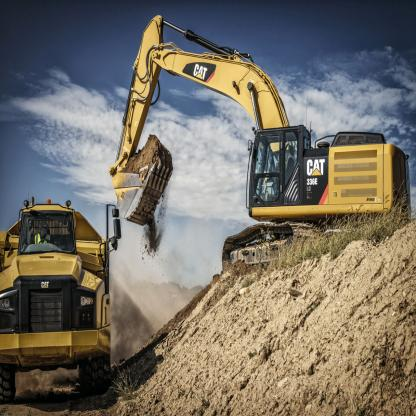dump_truck: (4, 197, 125, 400)
excavator: (108, 4, 409, 270)
